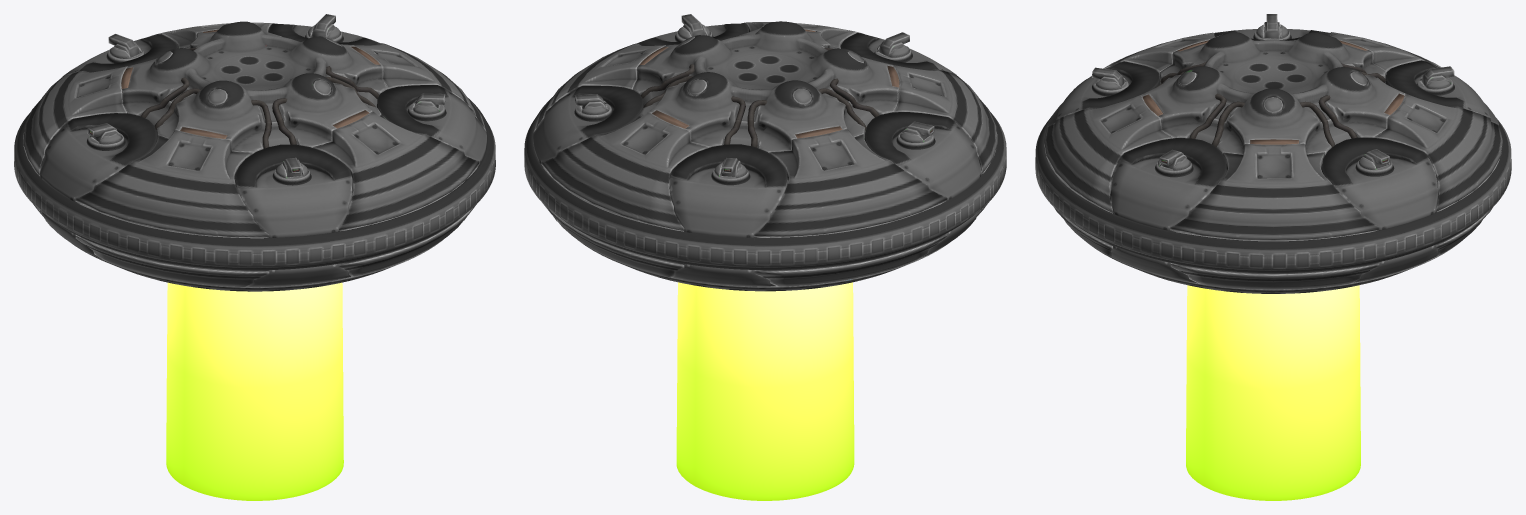
3 renders of one model, left to right at view 1: azimuth 30°, elevation 25°; view 2: azimuth 150°, elevation 25°; view 3: azimuth 270°, elevation 25°, orthographic.
Visible parts, largest first — view 1: Ufo_Ufo_Engine_2.001, Ufo_Main_Body, Ufo_Ring_1, Ufo_Body_Up.002, Ufo_Body_Up.001, Ufo_Large_1.004, Ufo_Large_1, Ufo_Body_Up.003, Ufo_Large_1.003, Ufo_Body_Down.002, Ufo_Body_Up, Ufo_Body_Down.001 (+8 smaller); view 2: Ufo_Ufo_Engine_2.001, Ufo_Main_Body, Ufo_Ring_1, Ufo_Body_Up.003, Ufo_Body_Up.004, Ufo_Large_1.001, Ufo_Large_1, Ufo_Body_Up.002, Ufo_Large_1.002, Ufo_Body_Up, Ufo_Body_Down.003, Ufo_Body_Down.004 (+9 smaller); view 3: Ufo_Ufo_Engine_2.001, Ufo_Main_Body, Ufo_Ring_1, Ufo_Body_Up, Ufo_Body_Up.001, Ufo_Body_Up.004, Ufo_Large_1.003, Ufo_Large_1.002, Ufo_Body_Down, Ufo_Large_1.004, Ufo_Large_1.001, Ufo_Body_Up.002 (+7 smaller).
Boxes of the visible parts, x1,y1,x2,y2 form: Ufo_Ufo_Engine_2.001: (166,282,343,500); Ufo_Main_Body: (122,21,386,153); Ufo_Ring_1: (14,97,495,270); Ufo_Body_Up.002: (75,130,269,237); Ufo_Body_Up.001: (312,111,479,230); Ufo_Large_1.004: (235,144,352,237); Ufo_Large_1: (40,113,157,201); Ufo_Body_Up.003: (23,66,127,175); Ufo_Large_1.003: (377,85,486,163); Ufo_Body_Down.002: (75,236,269,286); Ufo_Body_Up: (352,43,486,131); Ufo_Body_Down.001: (339,204,476,276); Ufo_Ufo_Engine_2.001: (676,282,854,500); Ufo_Main_Body: (633,21,898,152); Ufo_Ring_1: (524,97,1006,269); Ufo_Body_Up.003: (754,128,947,236); Ufo_Body_Up.004: (541,112,708,230); Ufo_Large_1.001: (670,144,787,237); Ufo_Large_1: (864,112,981,200); Ufo_Body_Up.002: (892,64,997,173); Ufo_Large_1.002: (533,85,643,164); Ufo_Body_Up: (533,43,665,132); Ufo_Body_Down.003: (754,234,947,286); Ufo_Body_Down.004: (542,202,684,277); Ufo_Ufo_Engine_2.001: (1186,285,1360,500); Ufo_Main_Body: (1142,31,1405,154); Ufo_Ring_1: (1035,116,1511,272); Ufo_Body_Up: (1170,143,1379,240); Ufo_Body_Up.001: (1044,94,1173,212); Ufo_Body_Up.004: (1374,93,1502,211); Ufo_Large_1.003: (1111,138,1226,230); Ufo_Large_1.002: (1322,137,1437,229); Ufo_Body_Down: (1170,263,1379,289); Ufo_Large_1.004: (1047,61,1160,126); Ufo_Large_1.001: (1385,60,1498,124); Ufo_Body_Up.002: (1090,32,1215,78).
Size of the model in its own units: 4.23 by 3.95 by 4.23.
2 materials, 1 textured.
